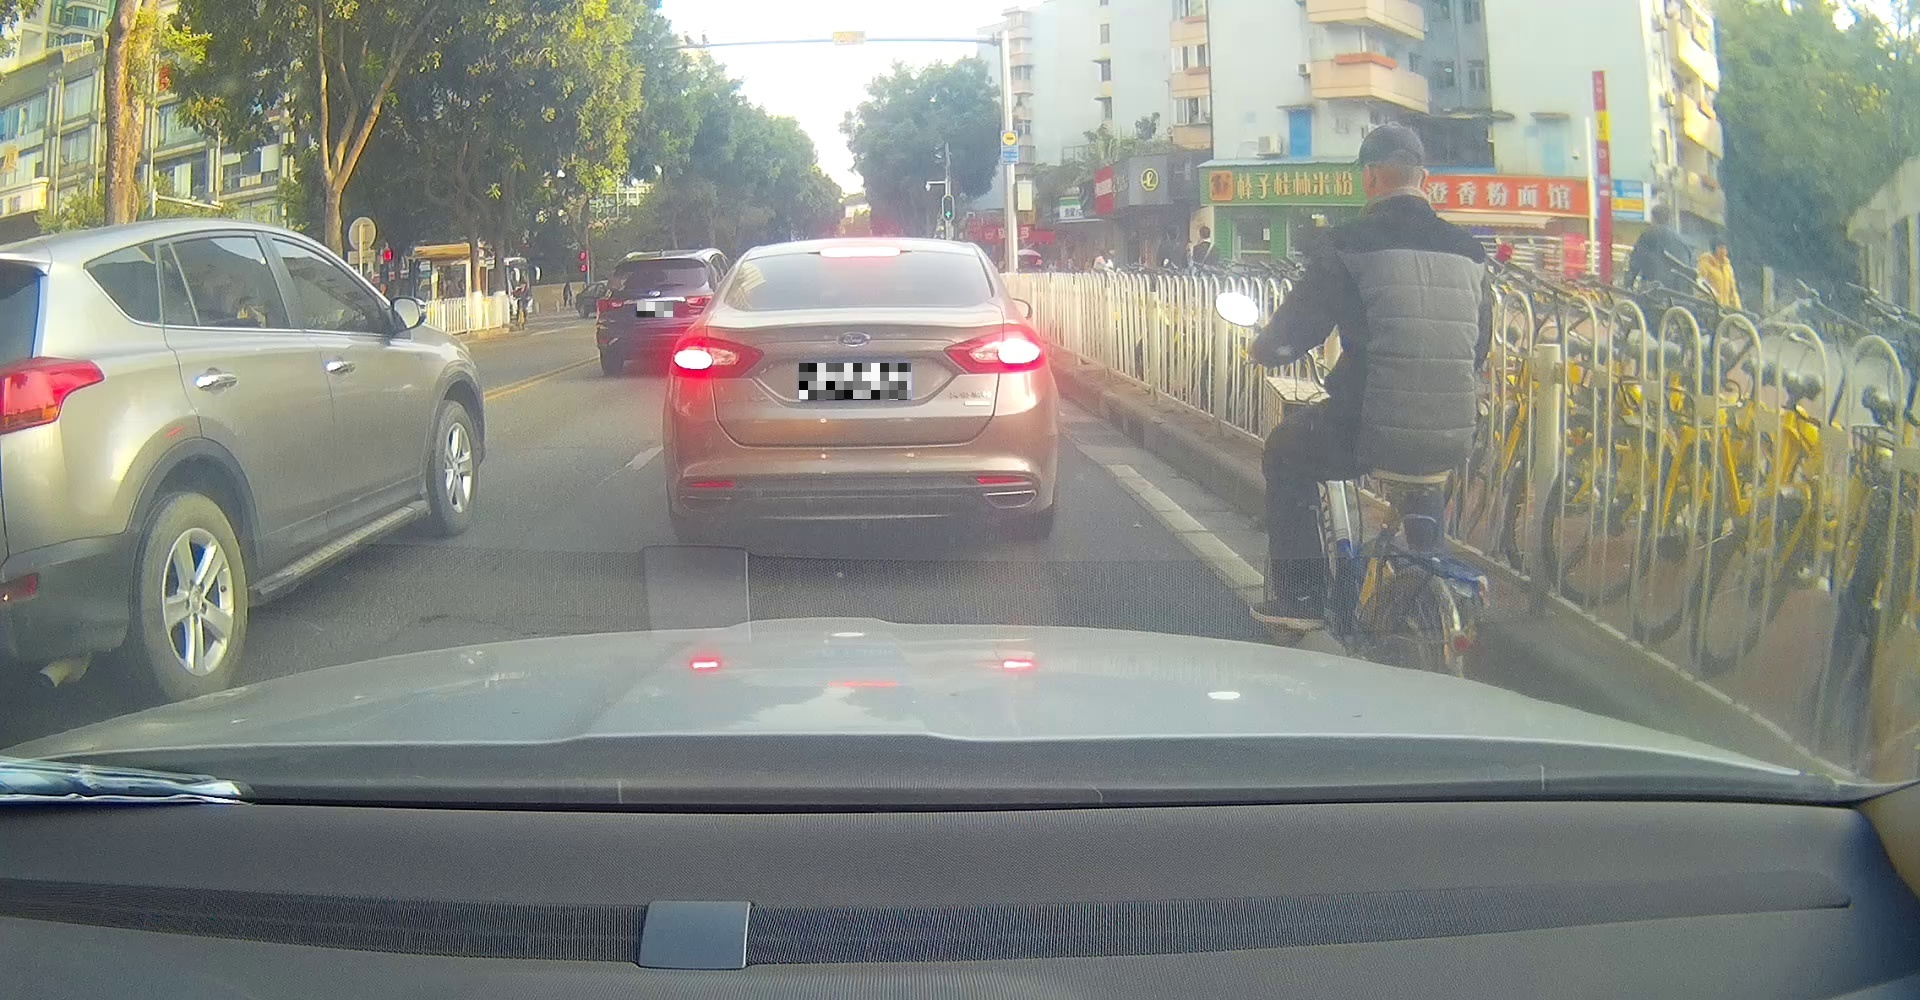L_light: (670, 335, 764, 379)
R_light: (942, 325, 1048, 376)
T_light: (820, 247, 900, 258)
day-brake: (662, 237, 1060, 544)
plate_1: (637, 302, 673, 317)
plate_2: (799, 363, 910, 400)
